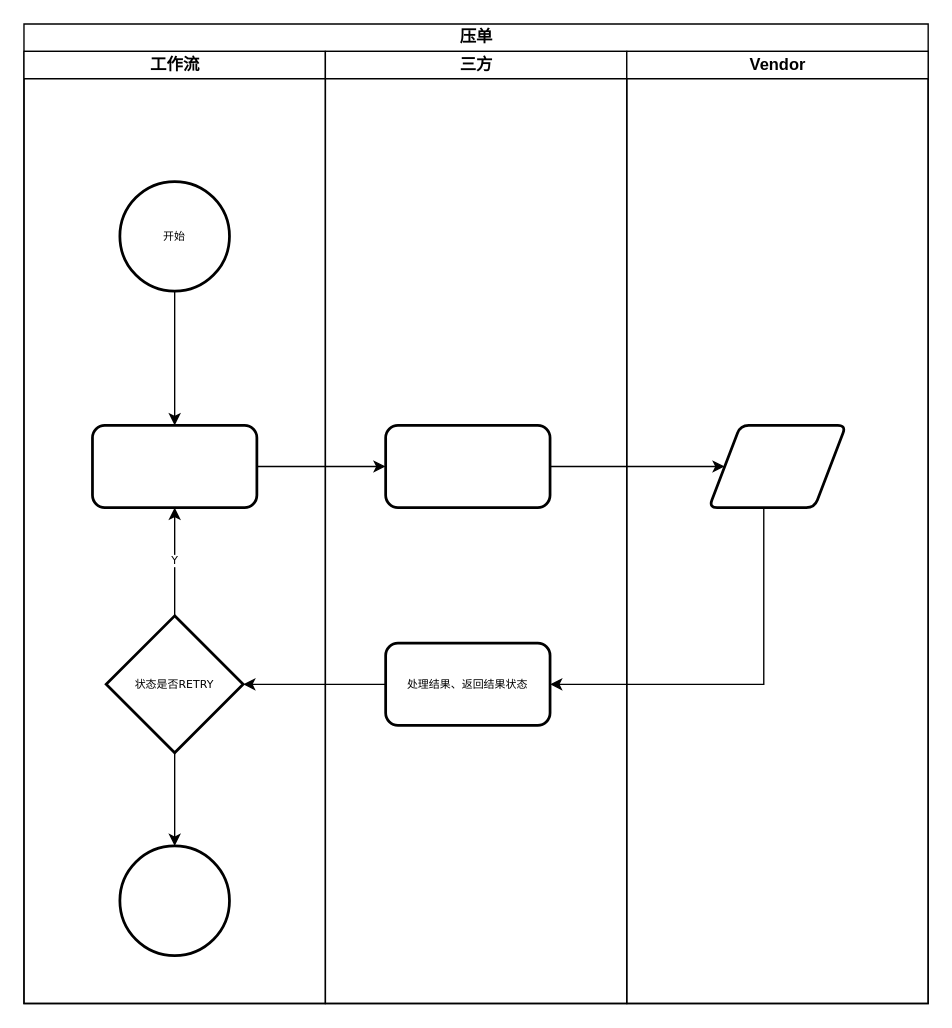
This 952x1028 diagram has some shape labels left out. Each missing label, with the centre of its shape:
task发起特征查询: the point at 174,465
结束: the point at 174,900
调用三方: the point at 467,465
返回数据: the point at 777,465
